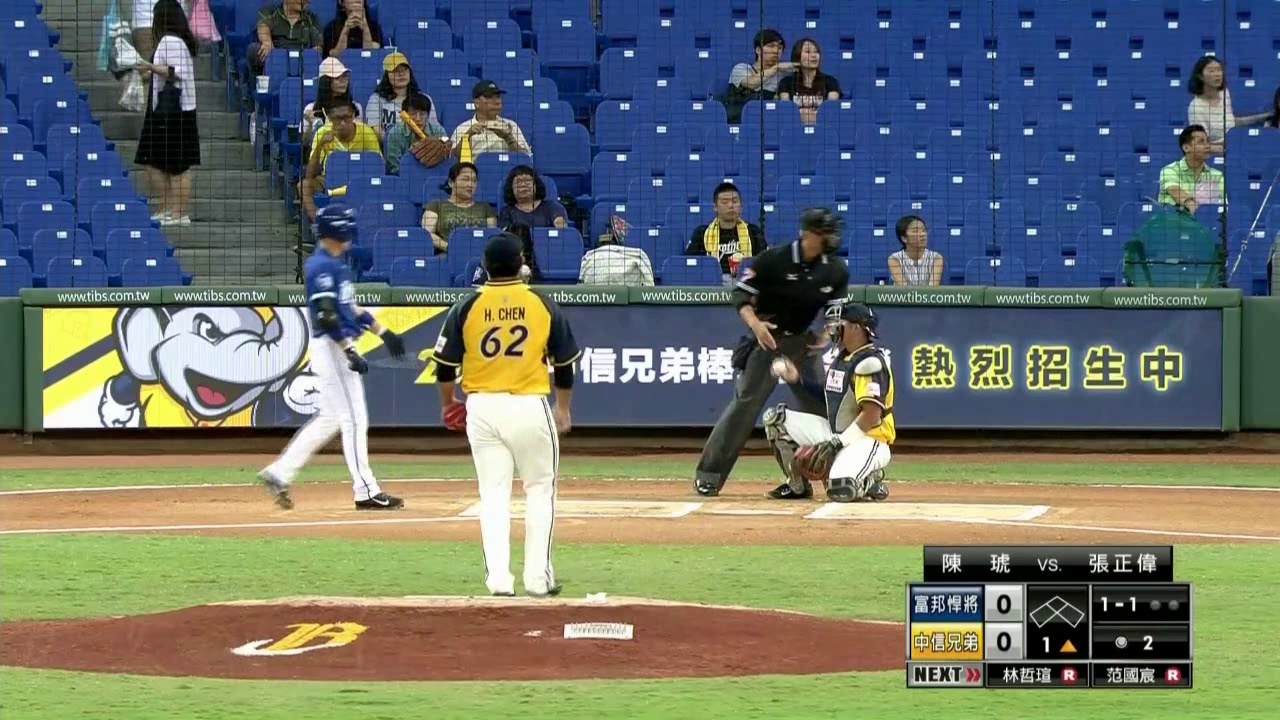ball: (775, 360, 790, 375)
base: (1027, 593, 1087, 633)
bat: (367, 360, 429, 369)
out: (1143, 594, 1186, 614)
score1: (987, 588, 1020, 620)
score2: (987, 627, 1022, 657)
session: (1028, 633, 1086, 658)
strikeball: (1099, 594, 1141, 616)
total: (1107, 630, 1160, 658)
